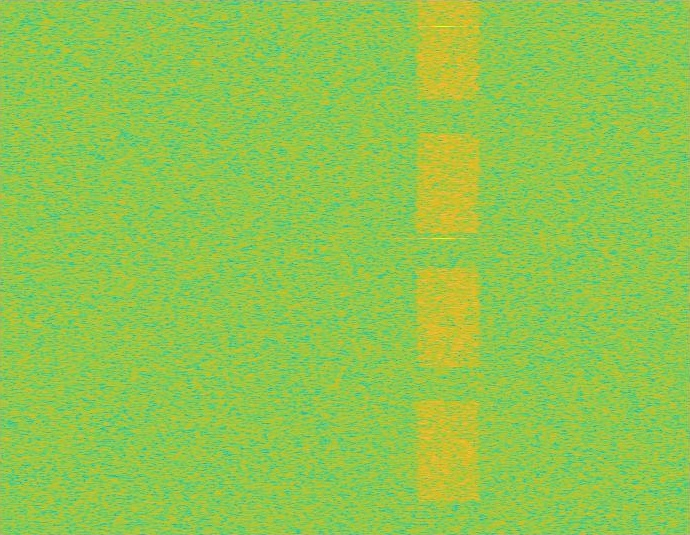5G: (414, 0, 483, 534)
Radar: (436, 0, 450, 534)
